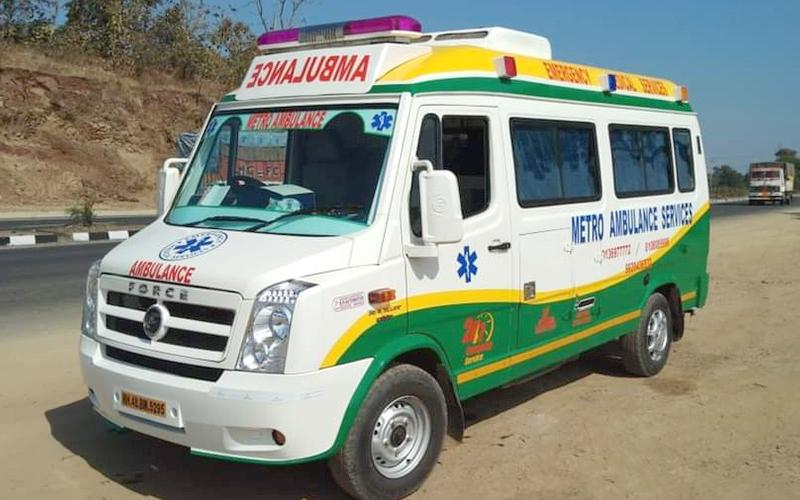ambulance: (71, 15, 753, 481)
